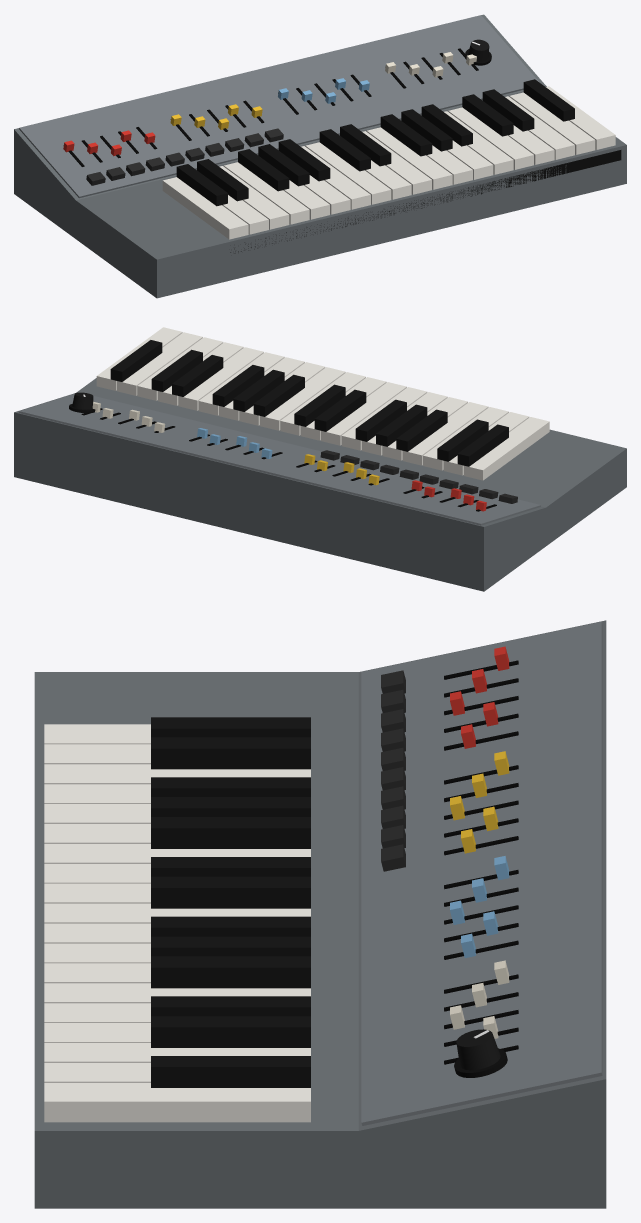
3 views of the same model, one above another, from view 1: azimuth 30°, elevation 25°; view 2: azimuth 150°, elevation 25°; view 3: azimuth 270°, elevation 25° (orthographic). The views are drawn at different scales.
Visible parts, largest first — view 1: SH-101; view 2: SH-101; view 3: SH-101.
Boxes of the visible parts, x1,y1,x2,y2 form: SH-101: (14, 14, 626, 298); SH-101: (14, 327, 626, 591); SH-101: (34, 620, 606, 1208).
Size of the model in its own units: 0.57 by 0.08 by 0.3.
